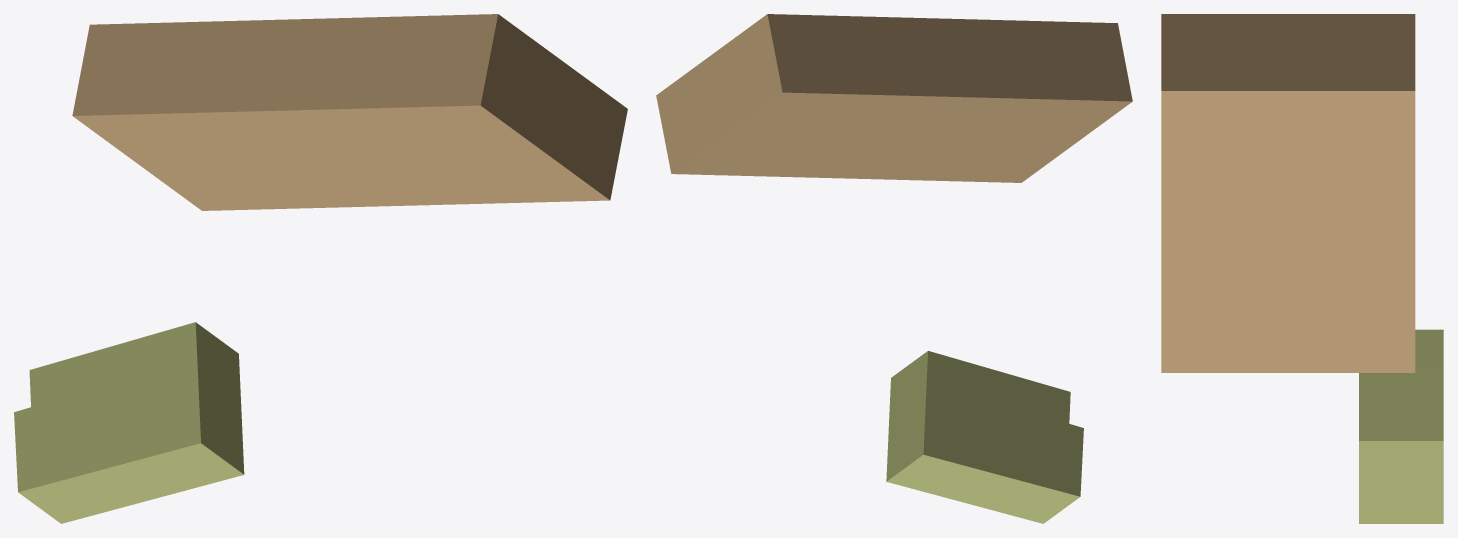
The picture shows the model from 3 angles, left to right: view 1: azimuth 30°, elevation 25°; view 2: azimuth 150°, elevation 25°; view 3: azimuth 270°, elevation 25°; orthographic projection. The views are drawn at different scales.
Visible parts, largest first — view 1: 0_3_2_0_2_2_1_3; view 2: 0_3_2_0_2_2_1_3; view 3: 0_3_2_0_2_2_1_3.
Part boxes in pixels (x1=…): 0_3_2_0_2_2_1_3: x1=14, y1=14, x2=627, y2=523; 0_3_2_0_2_2_1_3: x1=656, y1=14, x2=1132, y2=523; 0_3_2_0_2_2_1_3: x1=1161, y1=14, x2=1443, y2=523.
Size of the model in its own units: 56.45 by 53.3 by 30.
